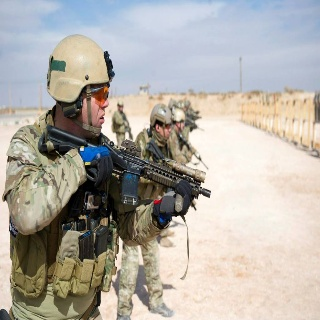rifle: (38, 124, 214, 207)
